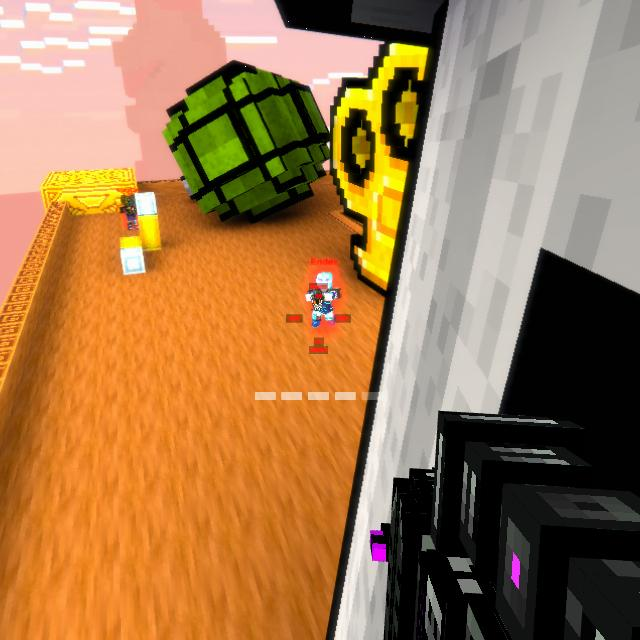Enemy: (305, 272, 342, 328), (118, 196, 137, 230)
